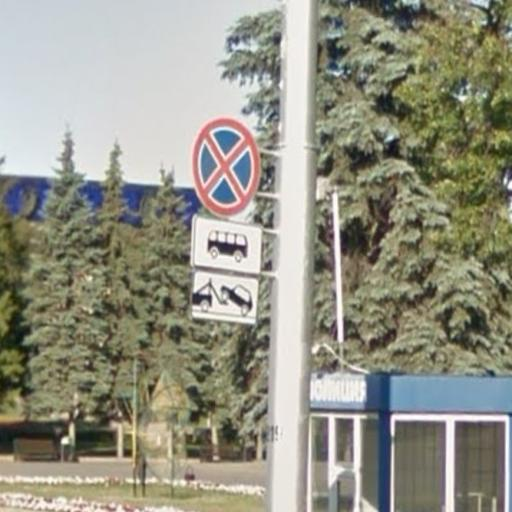traffic_sign: (192, 117, 263, 220)
